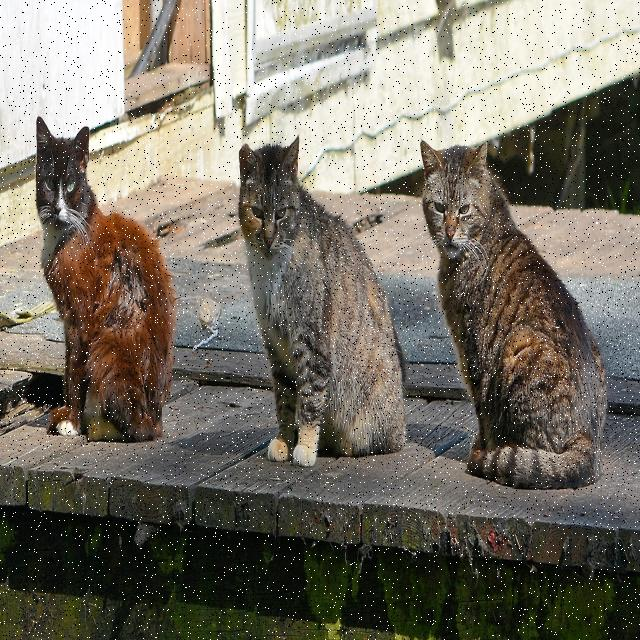cat: (421, 143, 606, 489), (239, 138, 406, 467), (36, 118, 175, 441)
